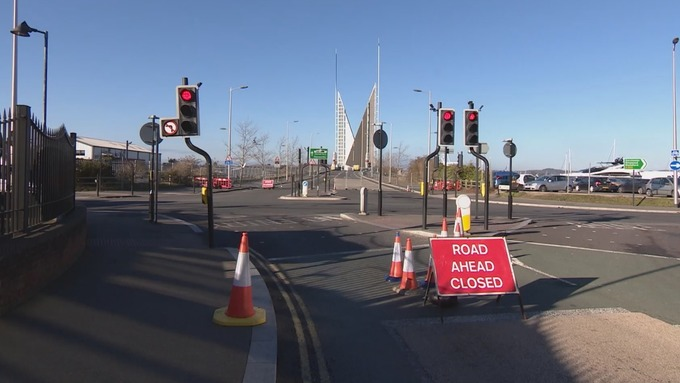cone: (213, 231, 267, 330), (393, 237, 422, 296), (382, 231, 411, 287)
